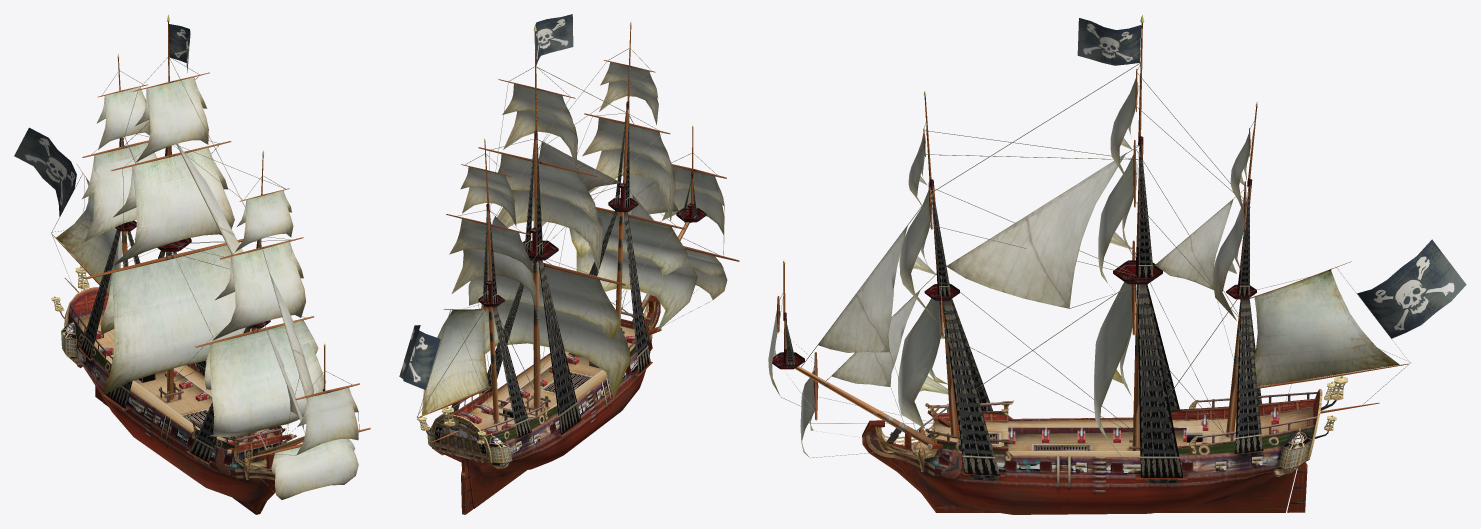
The model's file is frigate.glb.
The picture shows the model from 3 angles, left to right: view 1: azimuth 30°, elevation 25°; view 2: azimuth 150°, elevation 25°; view 3: azimuth 270°, elevation 25°; orthographic projection. The views are drawn at different scales.
Parts seen in each view (by area): view 1: hull_hull_89, sail_hull_55_component_00, sail_hull_60_component_00, sail_hull_68_component_00, sail_hull_50_component_07, sail_hull_64_component_00, sail_hull_50_component_04, sail_hull_50_component_00, sail_hull_50_component_05, sail_hull_31_component_00, flag_hull_117_component_00, sail_hull_50_component_08 (+17 smaller); view 2: hull_hull_89, sail_hull_31_component_00, sail_hull_68_component_01, sail_furled_hull_85_component_01, sail_furled_hull_85_component_00, sail_hull_60_component_00, sail_furled_hull_81_component_00, native_hull_21_component_07, sail_hull_50_component_05, sail_hull_68_component_00, sail_furled_hull_77_component_07, sail_hull_50_component_07 (+27 smaller); view 3: hull_hull_89, sail_hull_31_component_00, sail_hull_38_component_00, flag_hull_117_component_00, native_hull_21_component_06, sail_hull_38_component_01, native_hull_21_component_00, native_hull_21_component_10, sail_hull_43_component_00, sail_hull_55_component_00, sail_hull_38_component_02, flag_hull_117_component_01 (+10 smaller).
Boxes of the visible parts, box(x1,y1,x2,y2) form: hull_hull_89: box(61, 287, 293, 514); sail_hull_55_component_00: box(103, 245, 257, 394); sail_hull_60_component_00: box(113, 147, 234, 265); sail_hull_68_component_00: box(208, 326, 307, 437); sail_hull_50_component_07: box(212, 242, 305, 340); sail_hull_64_component_00: box(210, 326, 325, 437); sail_hull_50_component_04: box(136, 77, 208, 162); sail_hull_50_component_00: box(274, 439, 358, 499); sail_hull_50_component_05: box(84, 142, 148, 241); sail_hull_31_component_00: box(56, 178, 122, 292); flag_hull_117_component_00: box(14, 127, 76, 216); sail_hull_50_component_08: box(235, 190, 293, 251); hull_hull_89: box(427, 295, 661, 514); sail_hull_31_component_00: box(422, 309, 488, 415); sail_hull_68_component_01: box(481, 301, 630, 398); sail_furled_hull_85_component_01: box(468, 264, 621, 340); sail_furled_hull_85_component_00: box(569, 214, 687, 271); sail_hull_60_component_00: box(497, 190, 604, 272); sail_furled_hull_81_component_00: box(497, 154, 597, 223); native_hull_21_component_07: box(538, 260, 581, 437); sail_hull_50_component_05: box(451, 228, 536, 314); sail_hull_68_component_00: box(576, 228, 697, 314); sail_furled_hull_77_component_07: box(582, 118, 672, 177); sail_hull_50_component_07: box(588, 118, 675, 220); hull_hull_89: box(862, 389, 1322, 514); sail_hull_31_component_00: box(1254, 269, 1399, 386); sail_hull_38_component_00: box(946, 153, 1136, 308); flag_hull_117_component_00: box(1357, 239, 1466, 338); native_hull_21_component_06: box(1137, 284, 1183, 483); sail_hull_38_component_01: box(818, 226, 920, 445); native_hull_21_component_00: box(942, 299, 1000, 480); native_hull_21_component_10: box(1235, 298, 1262, 456); sail_hull_43_component_00: box(1155, 199, 1233, 289); sail_hull_55_component_00: box(1094, 282, 1132, 430); sail_hull_38_component_02: box(832, 290, 920, 443); flag_hull_117_component_01: box(1077, 18, 1141, 65).
Size of the model in its own units: 19.11 by 47.76 by 60.7.
Materials: 172 (172 with a texture image).
